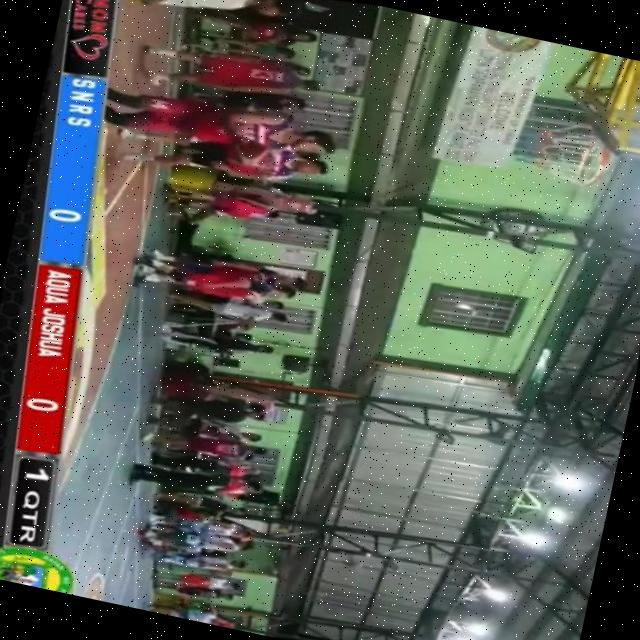ball: (227, 134, 280, 175)
